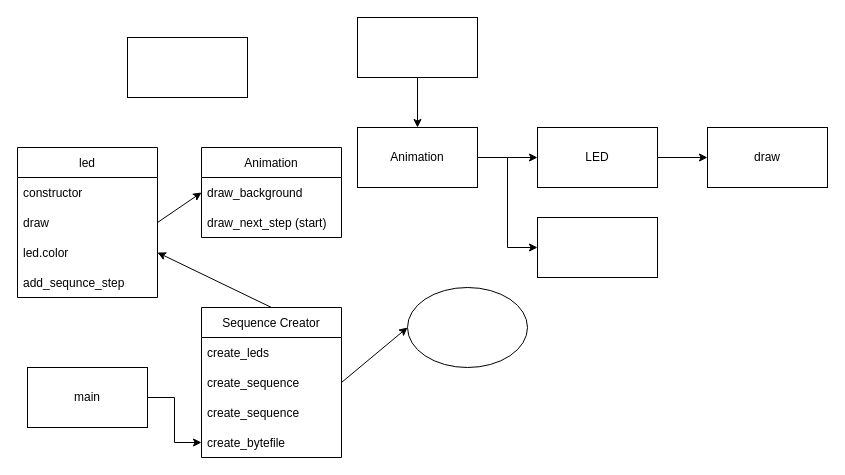
Image size: 845x475. Some labels were removed from this diagram. Here are the shapes that lost their labels. From the top down, the centre of each, then its label:
pixel 187 67: main loop
pixel 417 47: animation creator
pixel 597 247: binary output
pixel 467 327: bytefile
